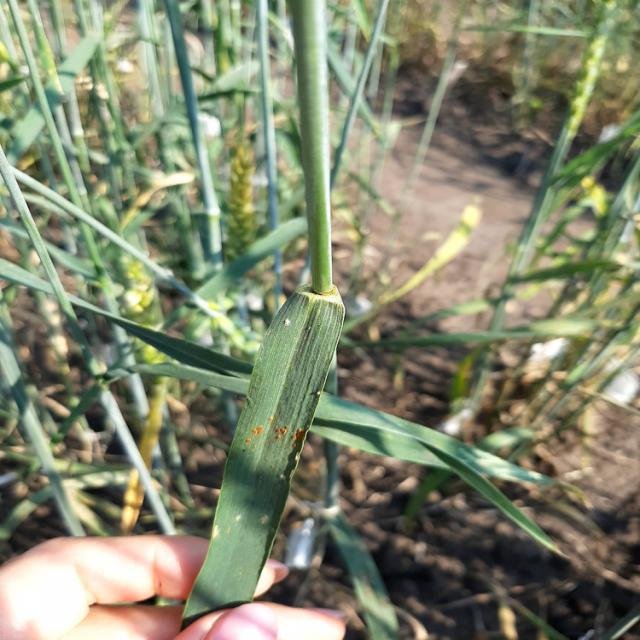wheat-powdery-mildew: (471, 447, 538, 486), (528, 470, 543, 479), (212, 524, 220, 539), (259, 515, 268, 525), (236, 513, 244, 522)
wheat-stemrust: (276, 425, 290, 439), (292, 429, 305, 441), (253, 425, 263, 435), (245, 438, 251, 443), (277, 435, 281, 440)
